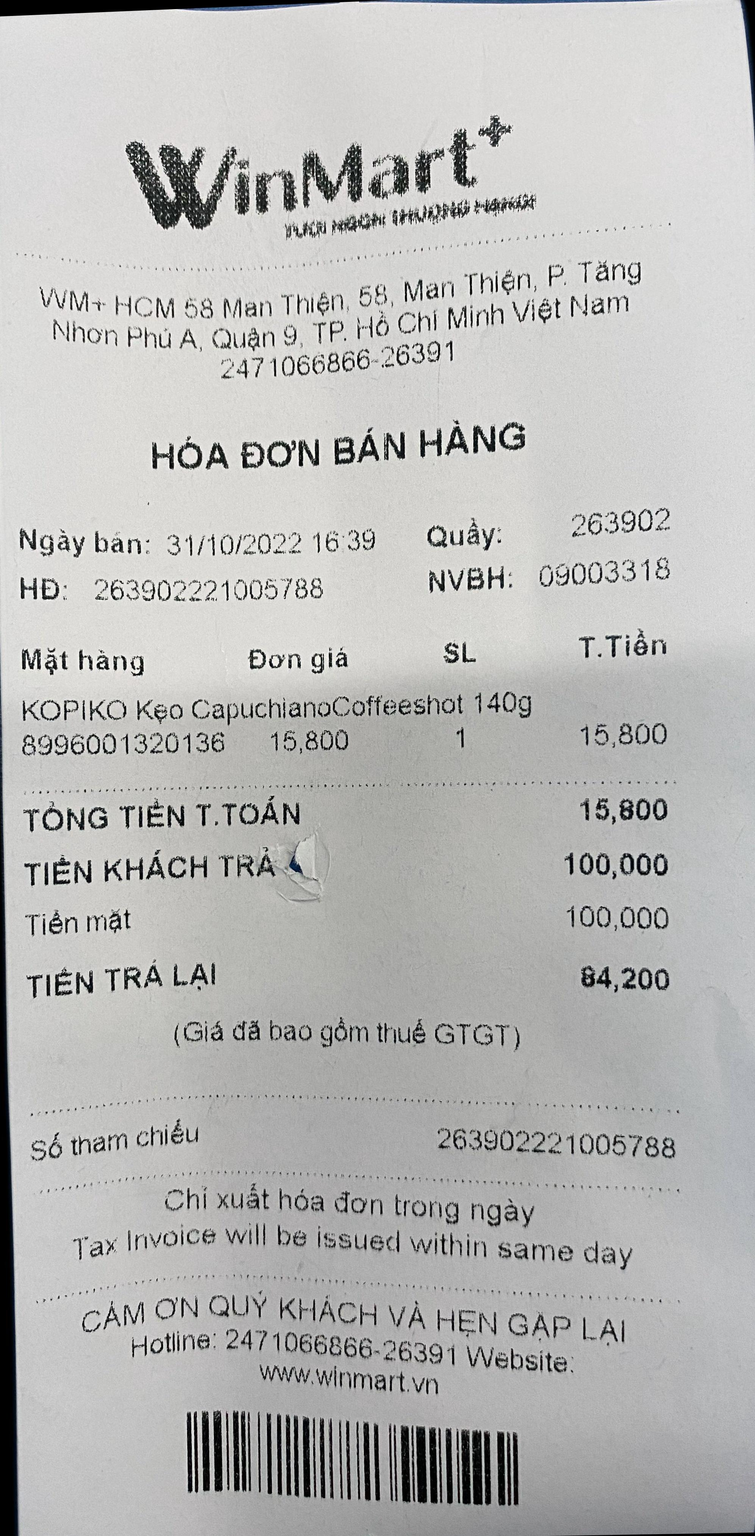Date: (157, 521, 311, 564)
Store_Name: (76, 99, 602, 254)
Total_Amount: (0, 775, 690, 839)
